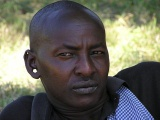male: (45, 23, 112, 104)
